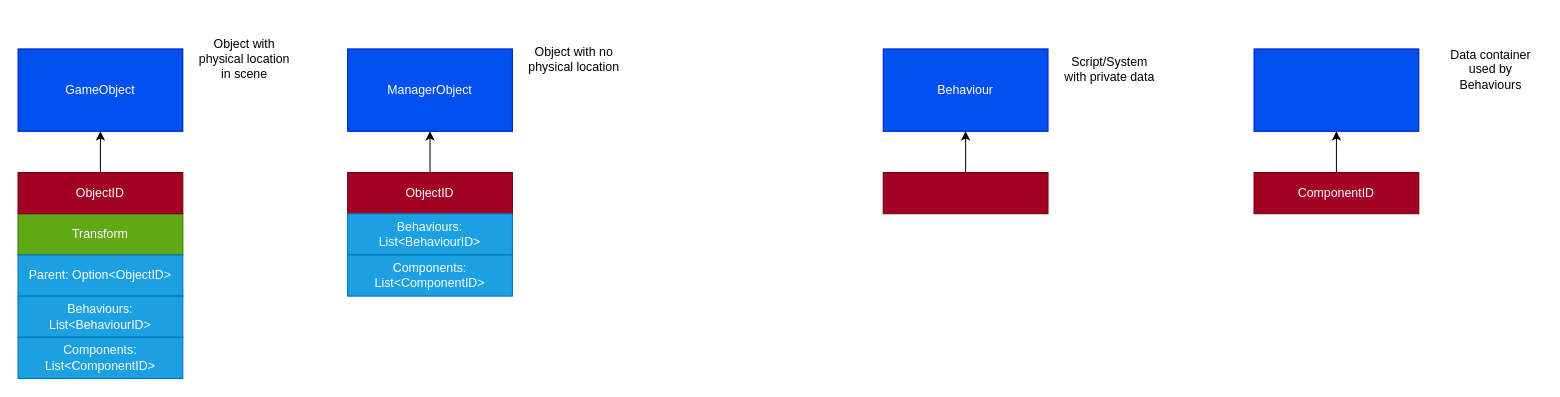
Image size: 1560x397. Some labels were removed from this diagram. The shapes that lost their labels are listed below. From the top down, each one's centre as x and y in pixels, then its label:
At pixel 1336 89: "Component".
At pixel 965 192: "BehaviourID".
